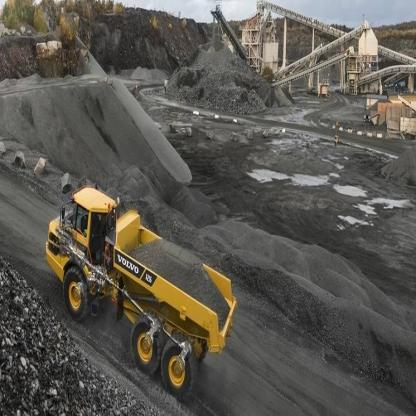dump_truck: (44, 178, 240, 394)
